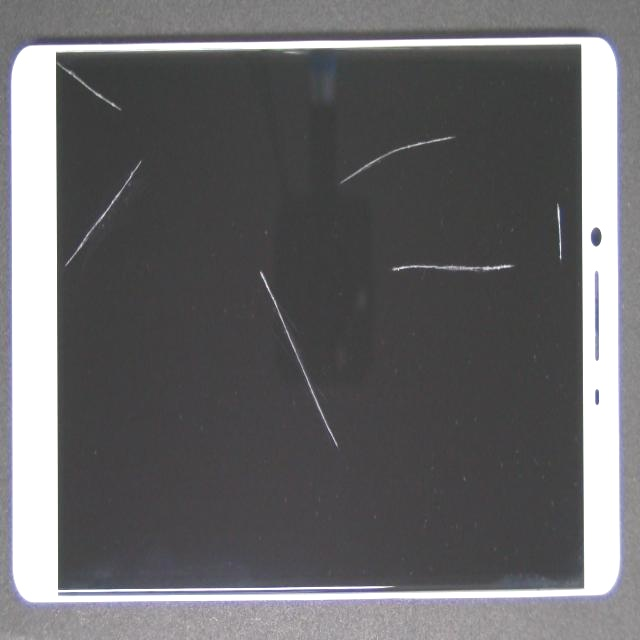scratch: (346, 106, 640, 360), (147, 93, 388, 385), (121, 12, 183, 253)
